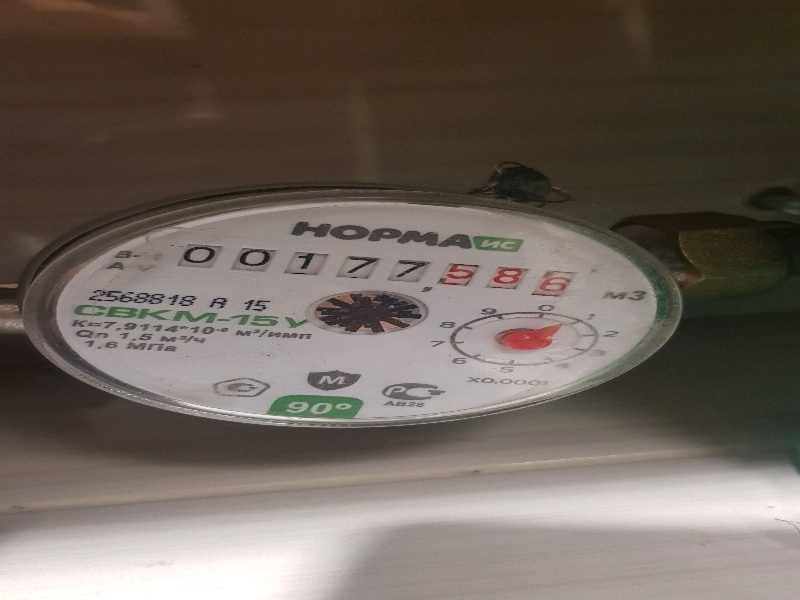meter: (177, 243, 580, 297)
